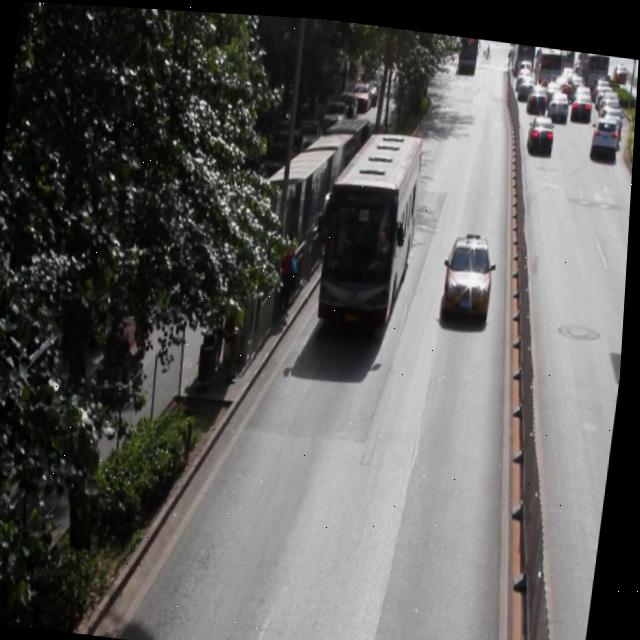car: (442, 227, 497, 314)
van: (317, 120, 423, 323)
